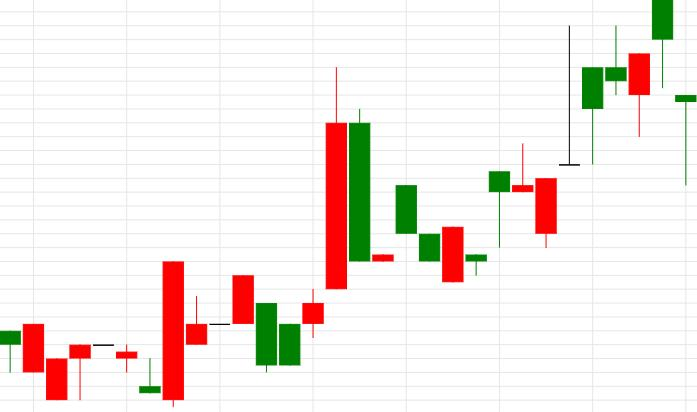bullish_engulfing_rise: (68, 260, 184, 407)
hanging_man_fall: (442, 26, 604, 282)
